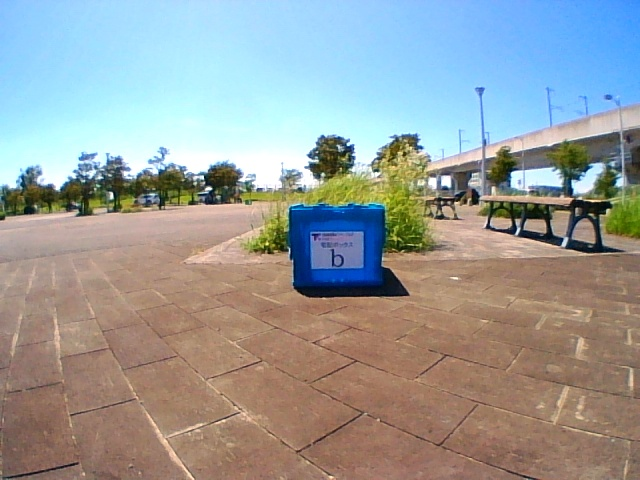blue_box: (291, 205, 384, 286)
tag_b: (311, 232, 363, 270)
